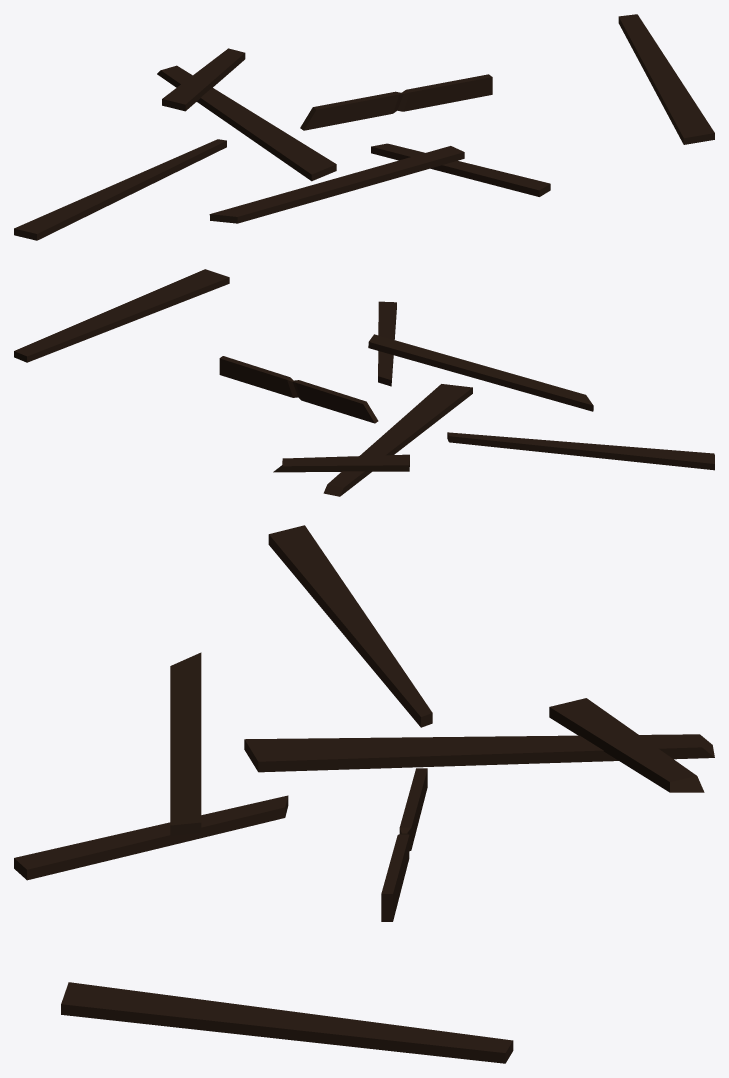
Rendered from SM_Woodscatter.fbx.
3 renders of one model, top to bottom at view 1: azimuth 30°, elevation 25°; view 2: azimuth 150°, elevation 25°; view 3: azimuth 270°, elevation 25°, orthographic. The views are drawn at different scales.
Parts seen in each view (by area): view 1: Box058; view 2: Box058; view 3: Box058.
Boxes of the visible parts, x1,y1,x2,y2 form: Box058: (14,14,714,240); Box058: (14,269,714,496); Box058: (14,525,714,1063).
Bounding box in the file's own units: 435 × 11.53 × 244.
